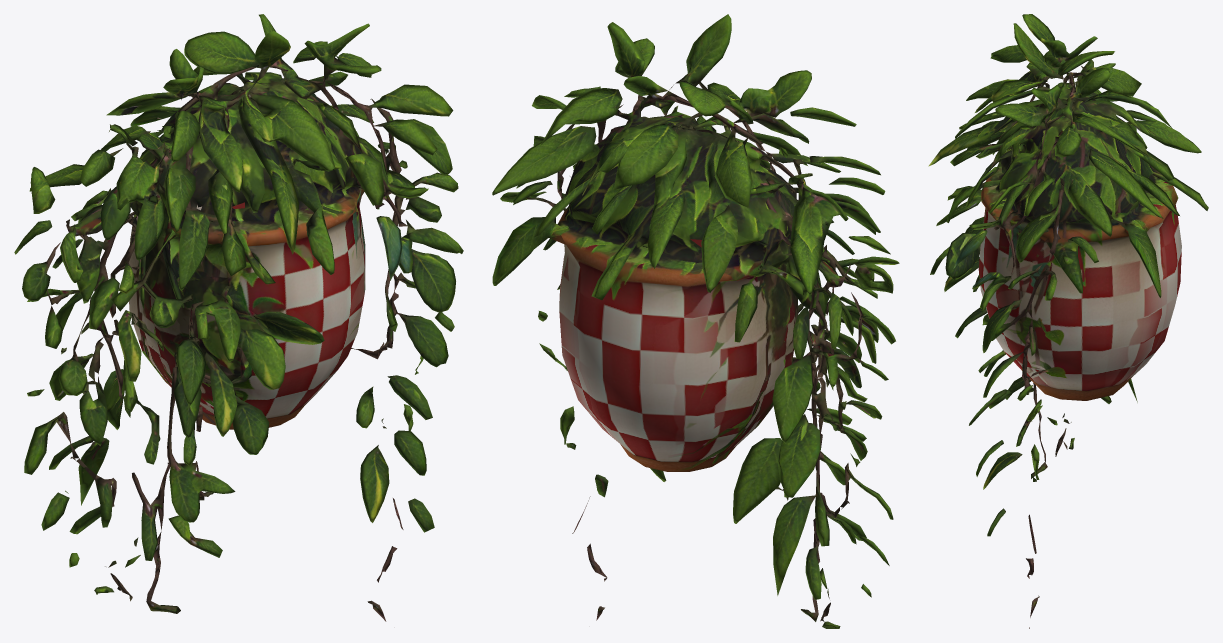
The model's file is tripo_convert_50ce7964-2cf1-4401-a4eb-9d4ca84fa62f.fbx.
3 renders of one model, left to right at view 1: azimuth 30°, elevation 25°; view 2: azimuth 150°, elevation 25°; view 3: azimuth 270°, elevation 25°, orthographic. The views are drawn at different scales.
Parts seen in each view (by area): view 1: tripo_node_50ce7964; view 2: tripo_node_50ce7964; view 3: tripo_node_50ce7964.
Part boxes in pixels (box(x1,y1,x2,y2)): tripo_node_50ce7964: box(14, 14, 463, 621); tripo_node_50ce7964: box(492, 14, 899, 628); tripo_node_50ce7964: box(928, 14, 1208, 628).
Bounding box in the file's own units: 0.6458 × 0.9489 × 0.4382.
1 material, 1 textured.
